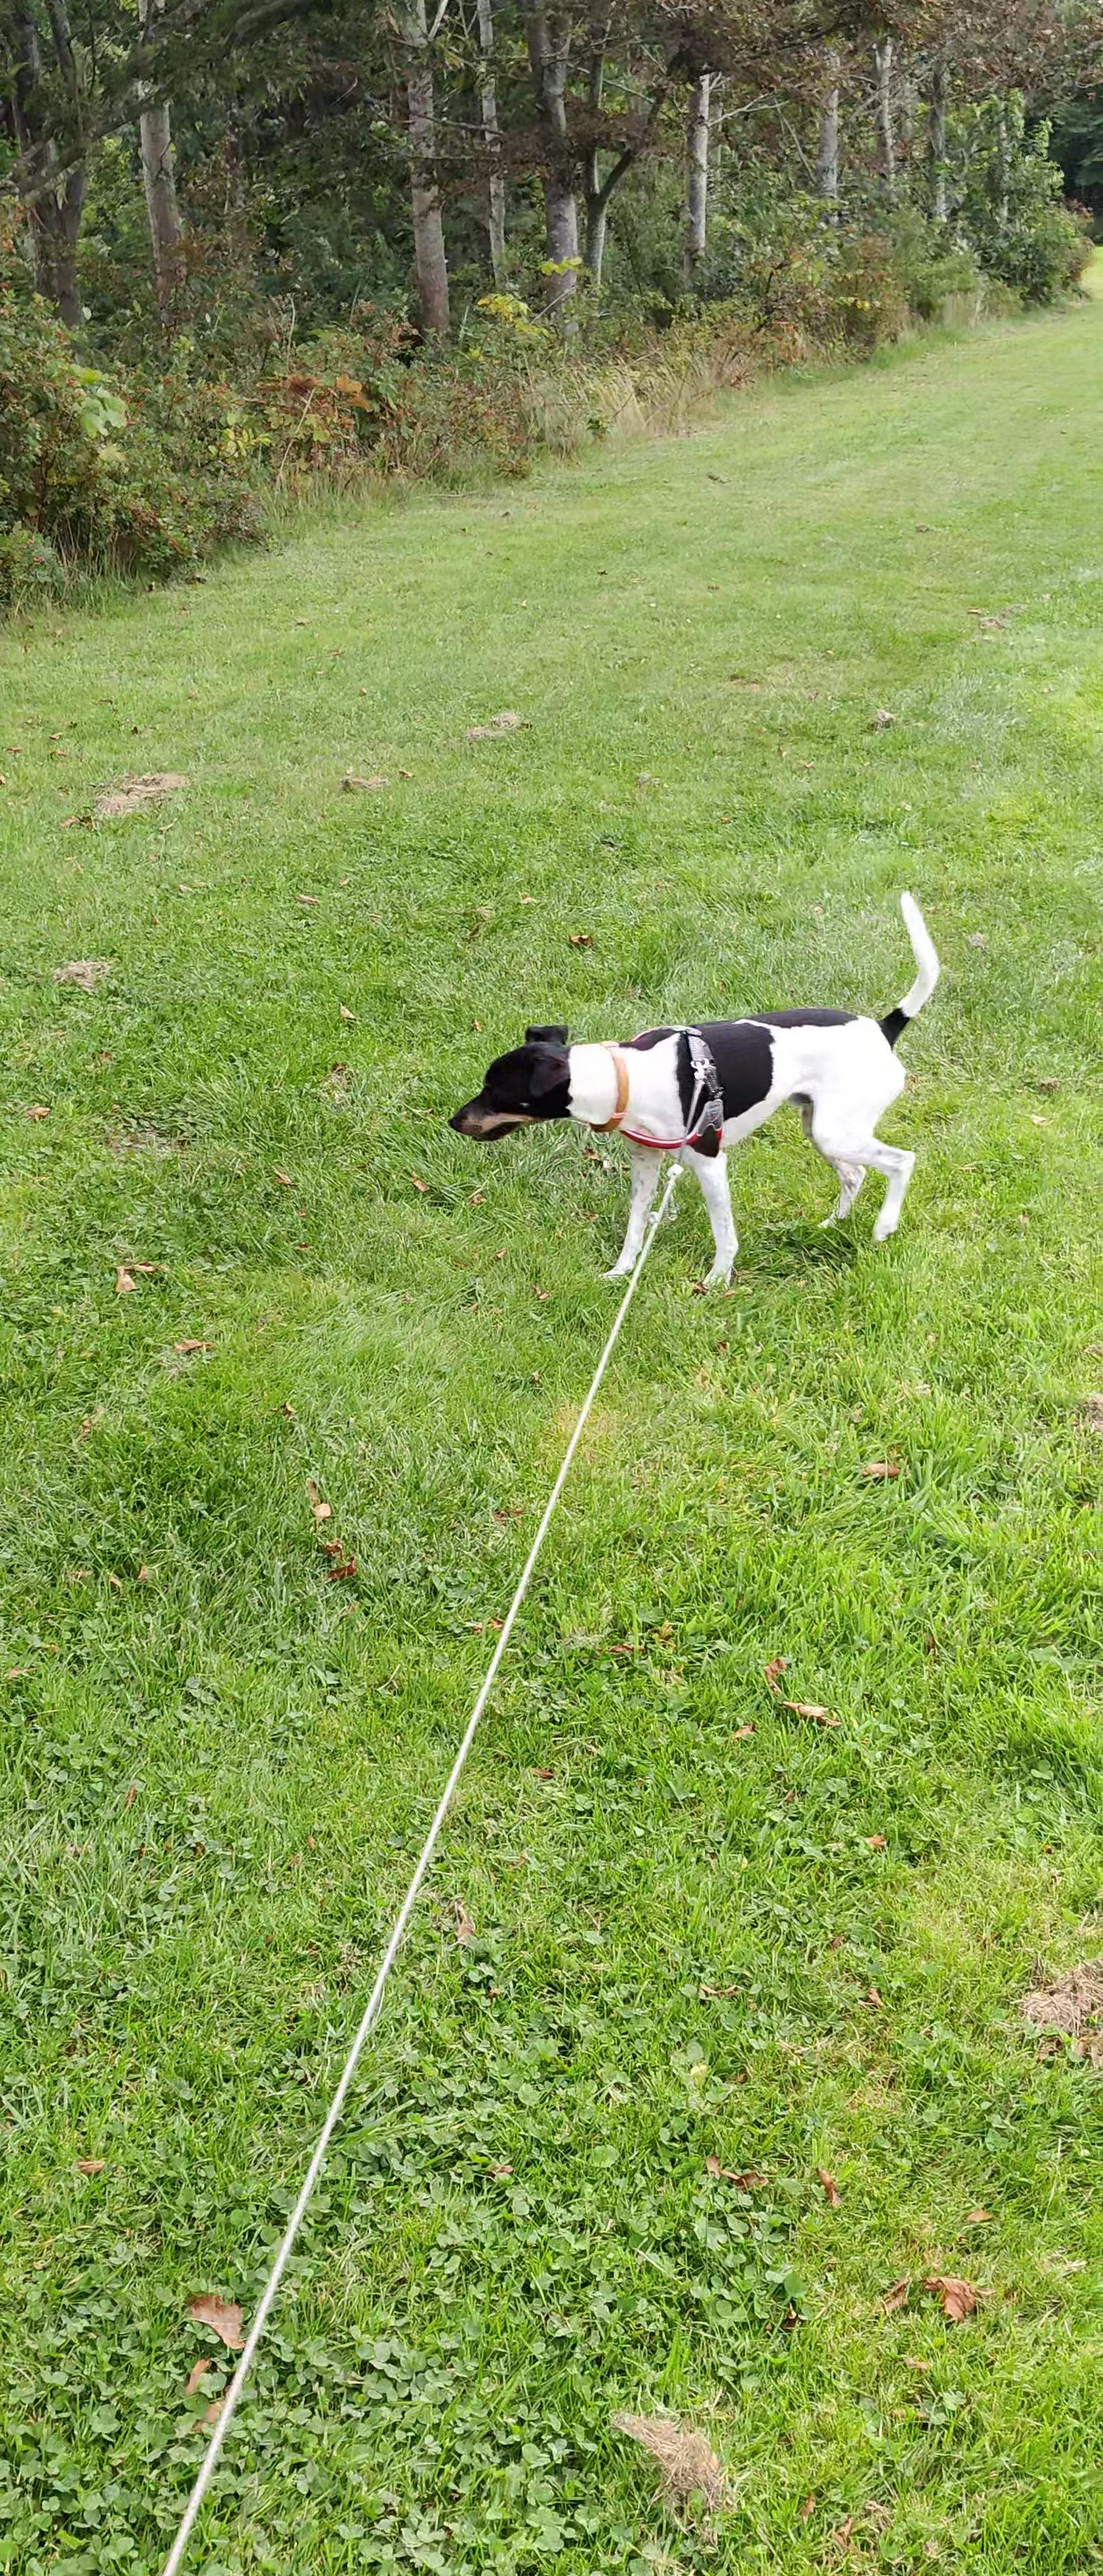Dog: (444, 887, 970, 1293)
